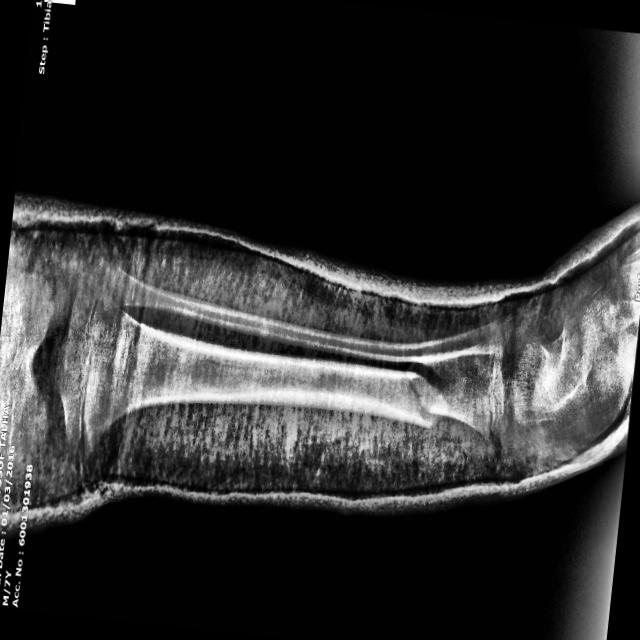Fracture: (379, 361, 457, 442)
